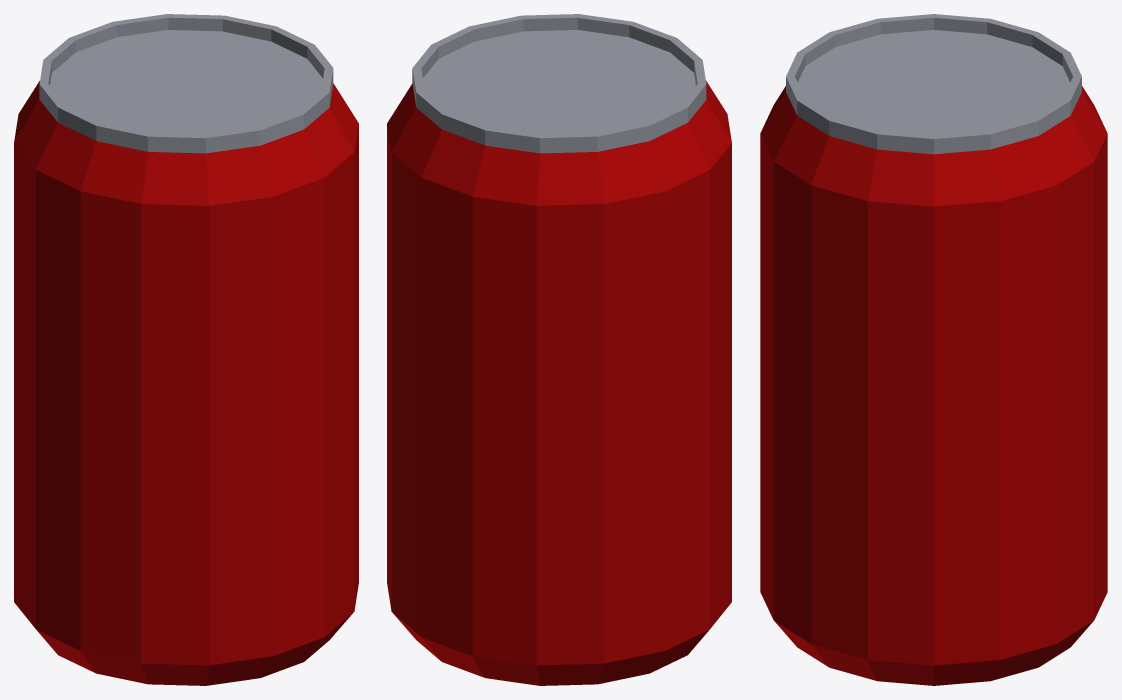
Rendered from Can-Soda-Particle_01.fbx.
3 renders of one model, left to right at view 1: azimuth 30°, elevation 25°; view 2: azimuth 150°, elevation 25°; view 3: azimuth 270°, elevation 25°, orthographic.
Parts seen in each view (by area): view 1: SodaCanParticle; view 2: SodaCanParticle; view 3: SodaCanParticle.
Boxes of the visible parts, box(x1,y1,x2,y2) form: SodaCanParticle: box(14, 14, 358, 685); SodaCanParticle: box(387, 14, 731, 685); SodaCanParticle: box(760, 14, 1107, 685).
Size of the model in its own units: 663 by 1152 by 663.
